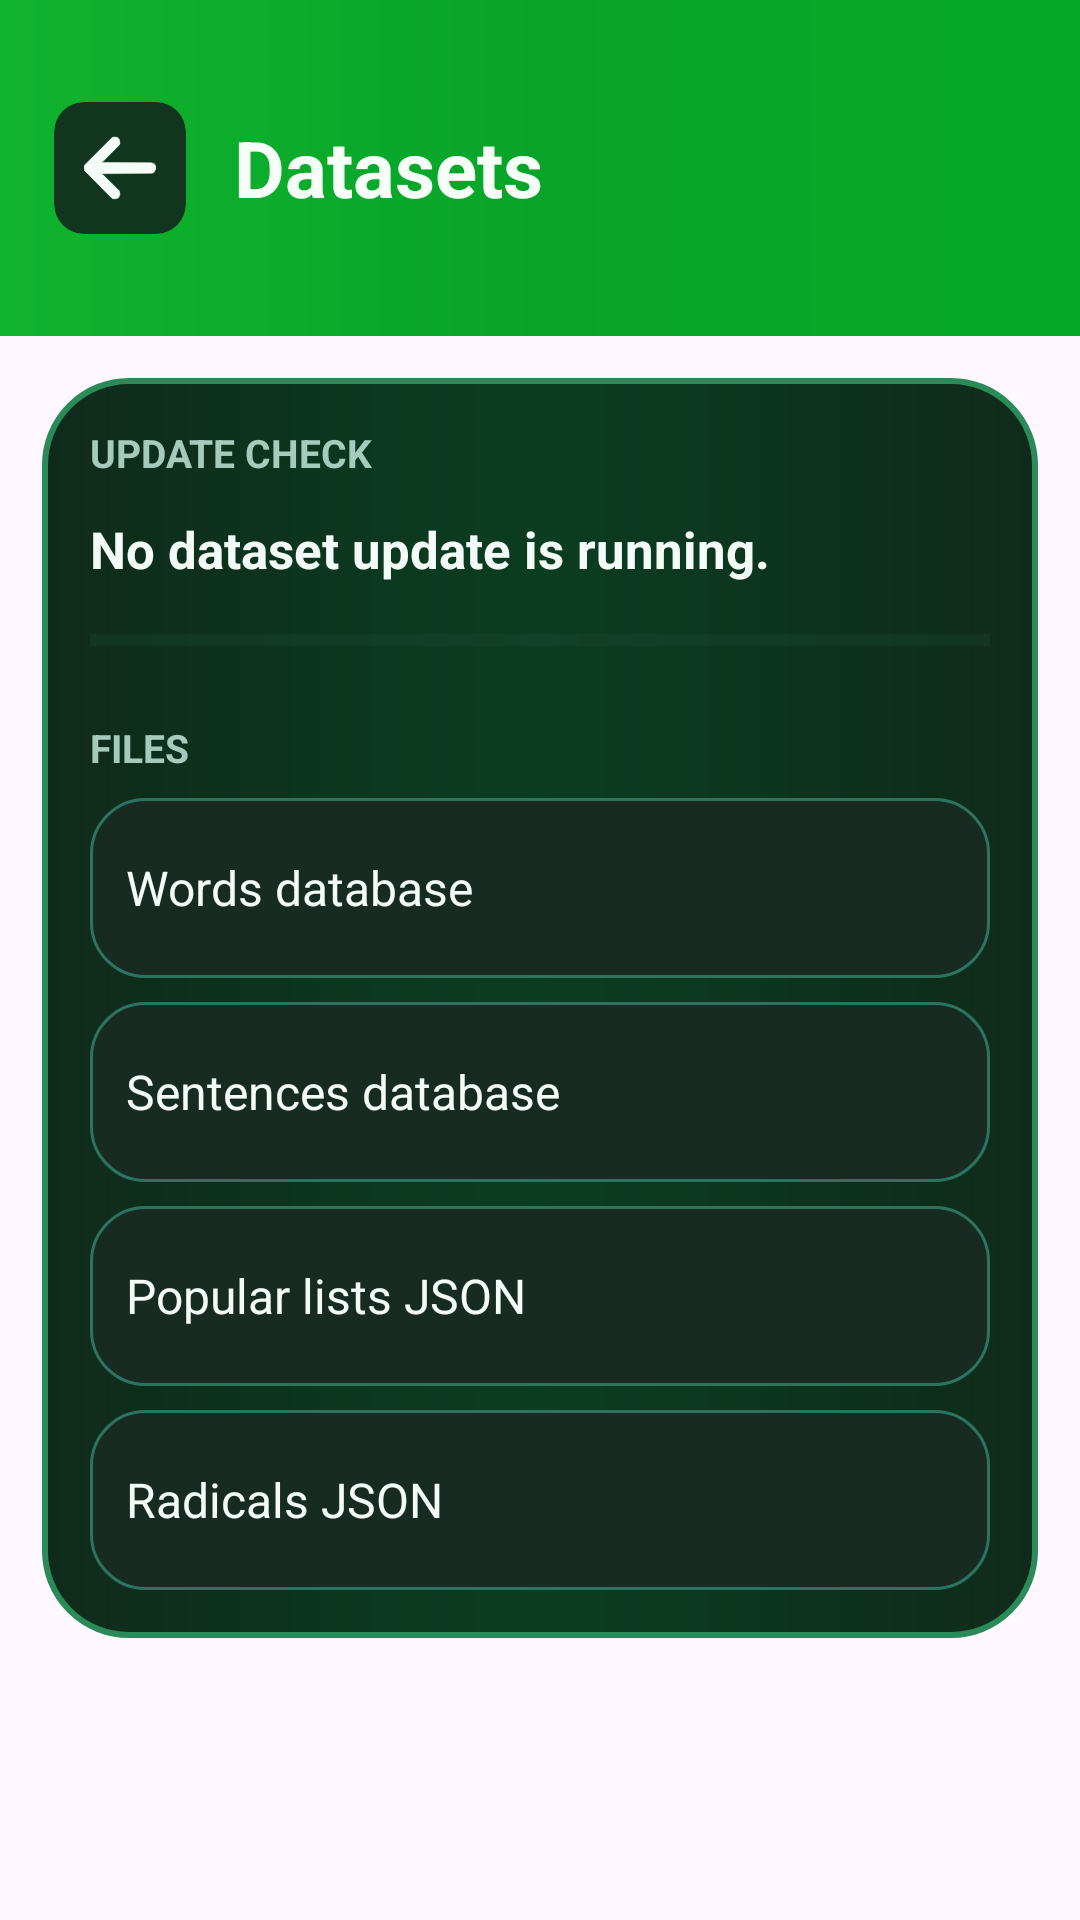

Icon click points for this 1080 × 1920 phone screenshot, format [x,y]:
back: [120,168]
